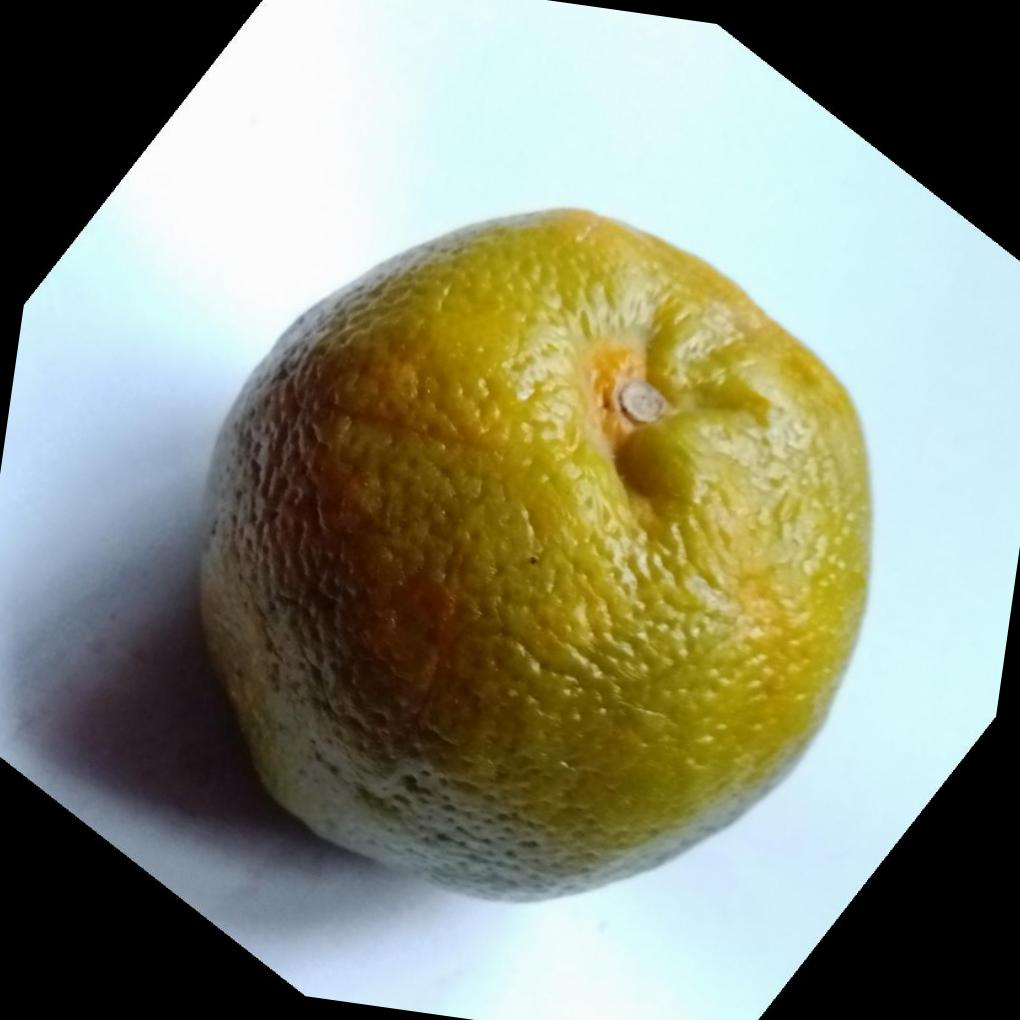FreshGuava: (194, 208, 875, 907)
